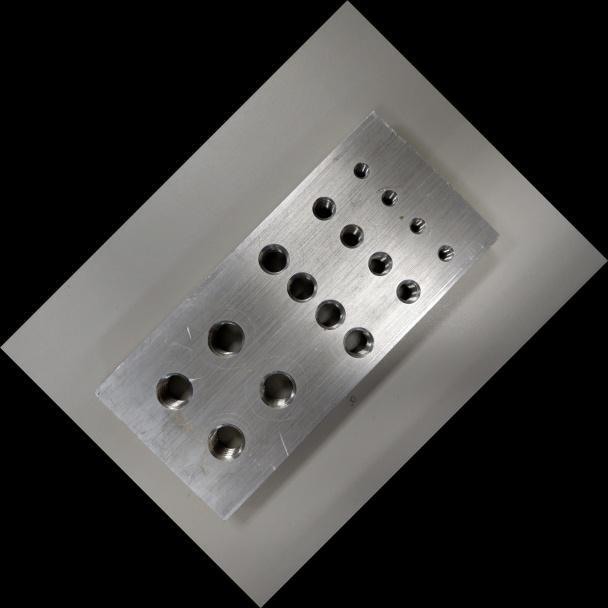hole: (197, 413, 255, 471), (248, 360, 306, 418), (197, 309, 254, 367), (145, 362, 202, 418), (306, 290, 354, 338), (249, 235, 297, 282), (335, 318, 381, 365), (279, 264, 325, 310), (389, 272, 427, 311), (332, 216, 370, 255), (361, 244, 399, 282), (305, 189, 342, 227), (432, 239, 459, 266), (403, 212, 430, 238), (376, 184, 402, 210), (348, 157, 374, 183)
